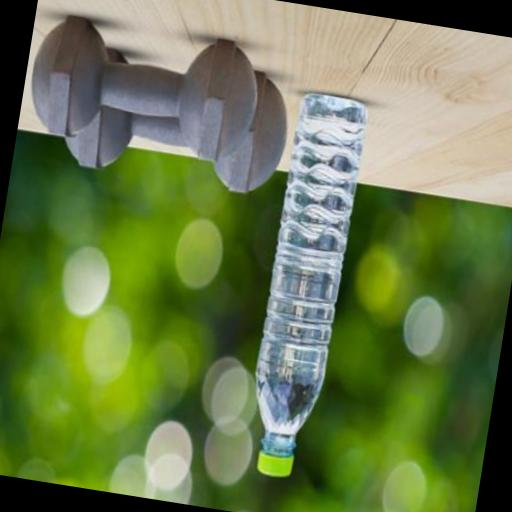Coca: (230, 80, 376, 489)
